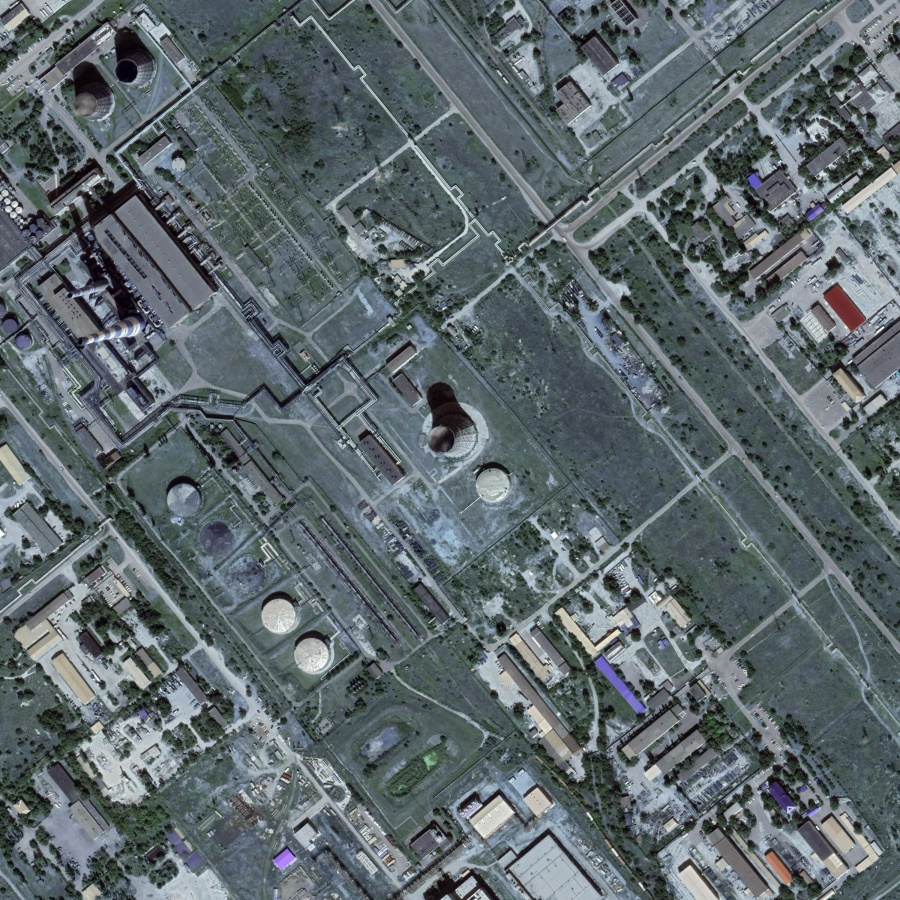PowerPlant: (44, 34, 519, 685)
